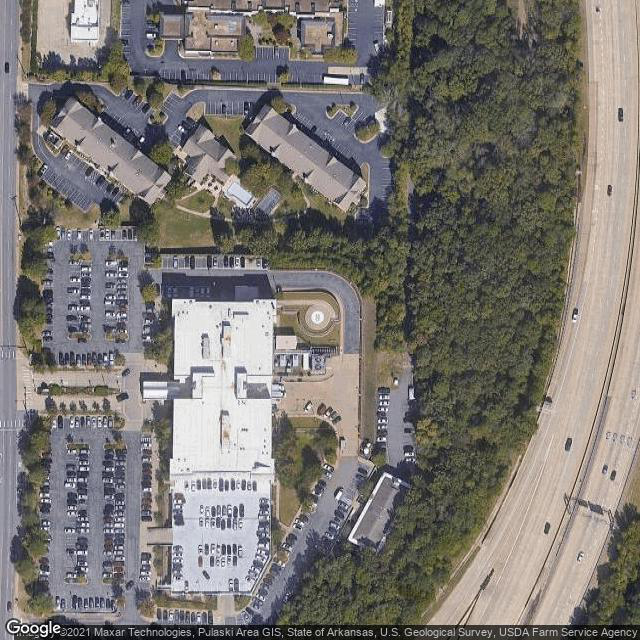Helipad: (304, 302, 330, 331)
